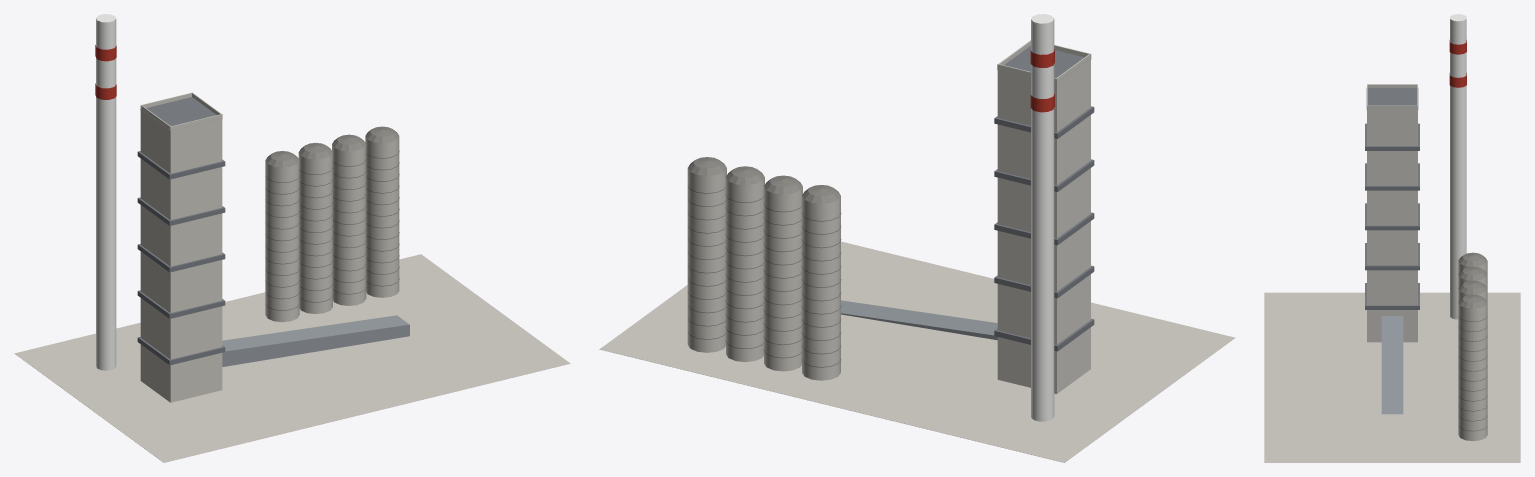
File: cimenterie_four.glb
The picture shows the model from 3 angles, left to right: view 1: azimuth 30°, elevation 25°; view 2: azimuth 150°, elevation 25°; view 3: azimuth 270°, elevation 25°; orthographic projection. The views are drawn at different scales.
Visible parts, largest first — view 1: cimenterie_four; view 2: cimenterie_four; view 3: cimenterie_four.
Part boxes in pixels (bbox=[...]): cimenterie_four: bbox=[14, 14, 570, 462]; cimenterie_four: bbox=[599, 14, 1235, 462]; cimenterie_four: bbox=[1264, 14, 1520, 462].
Bounding box in the file's own units: 110 × 90 × 70.
Materials: 1 (1 with a texture image).
